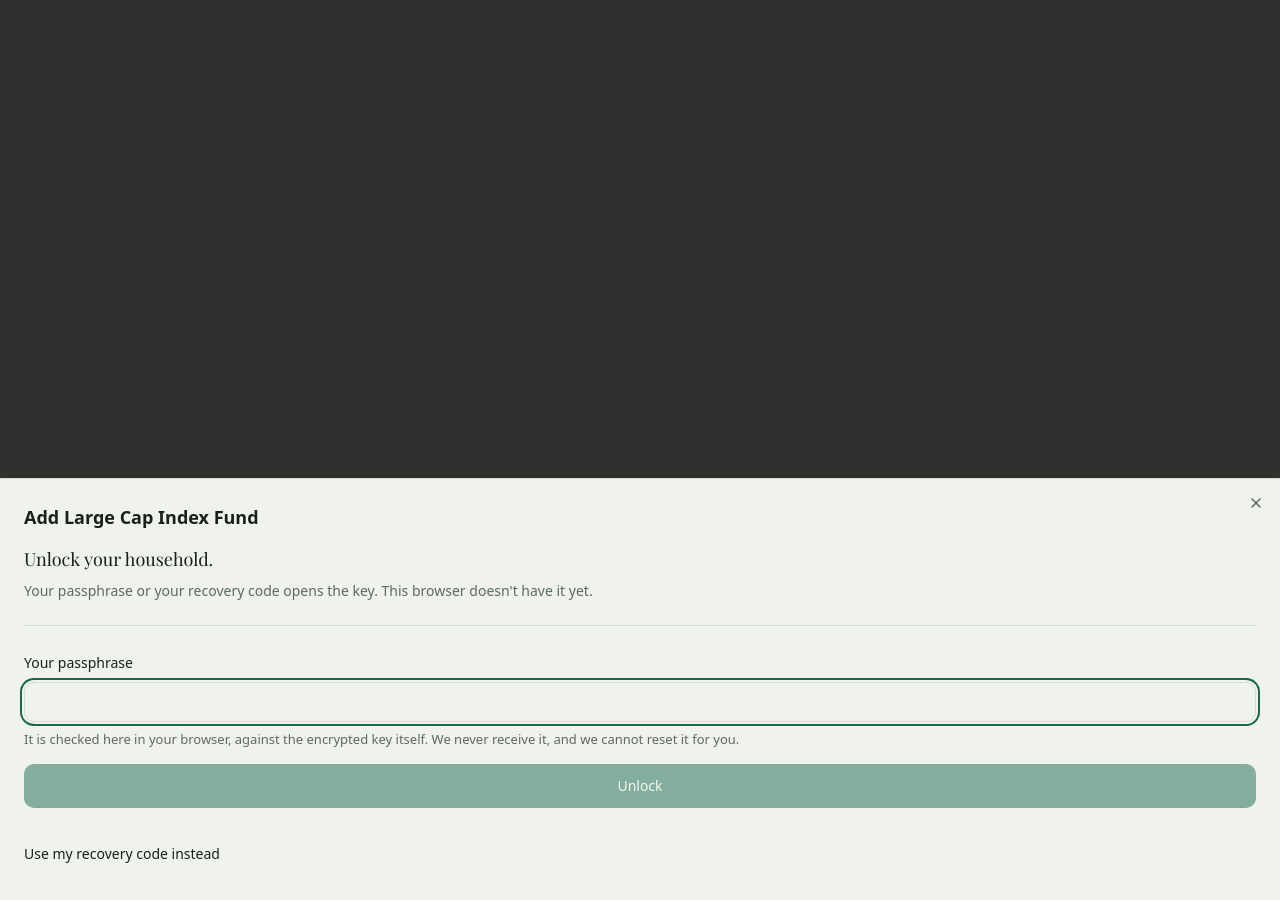
AddHoldingSheet › unlock: a correct passphrase unlocks in place and falls through to the prefilled form
The image size is (1280, 900).
Type "open sesame please" into the password field labelled "Your passphrase" at (640, 702), box [24,682,1256,722]
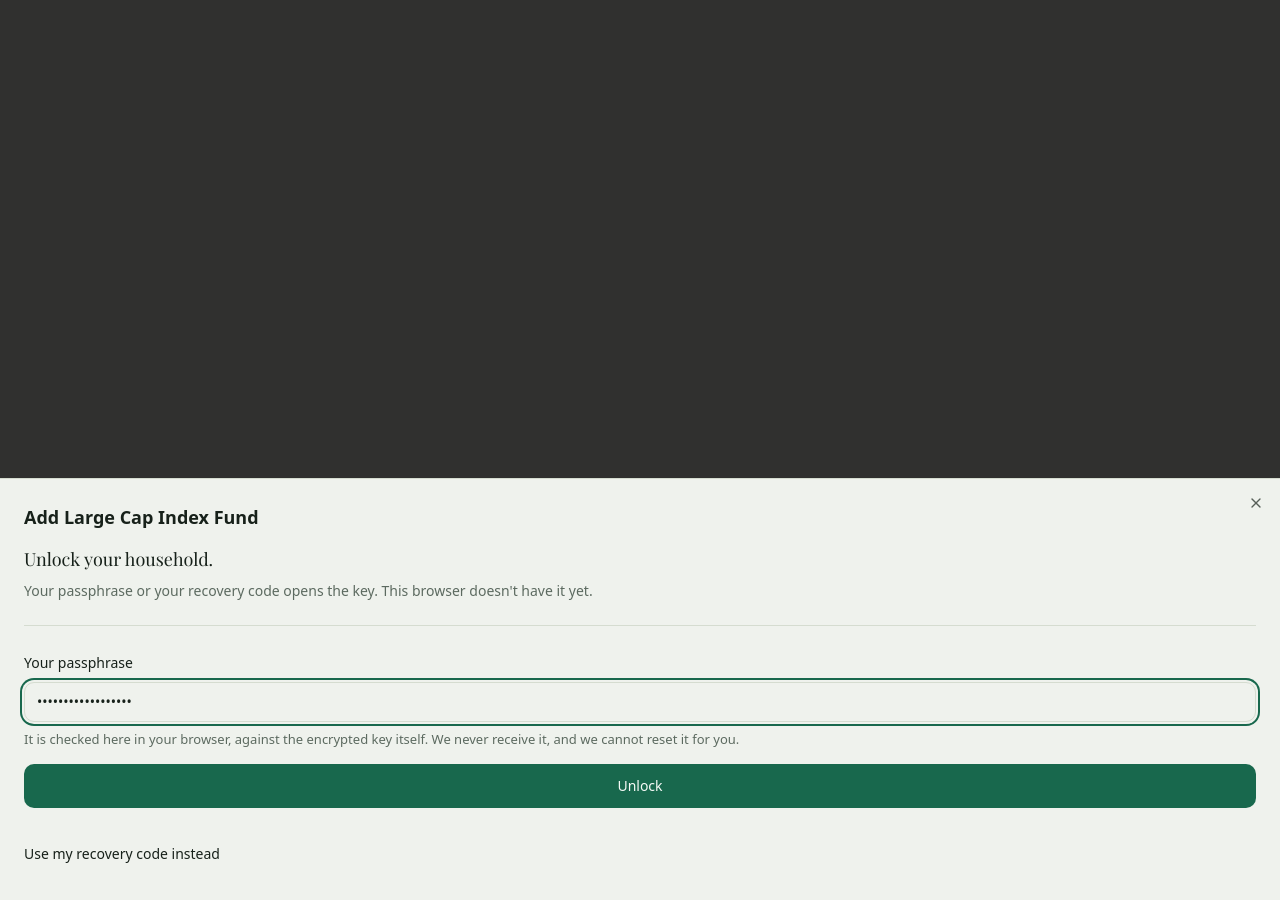
Click the button "Unlock" at (640, 786), box [24,764,1256,808]
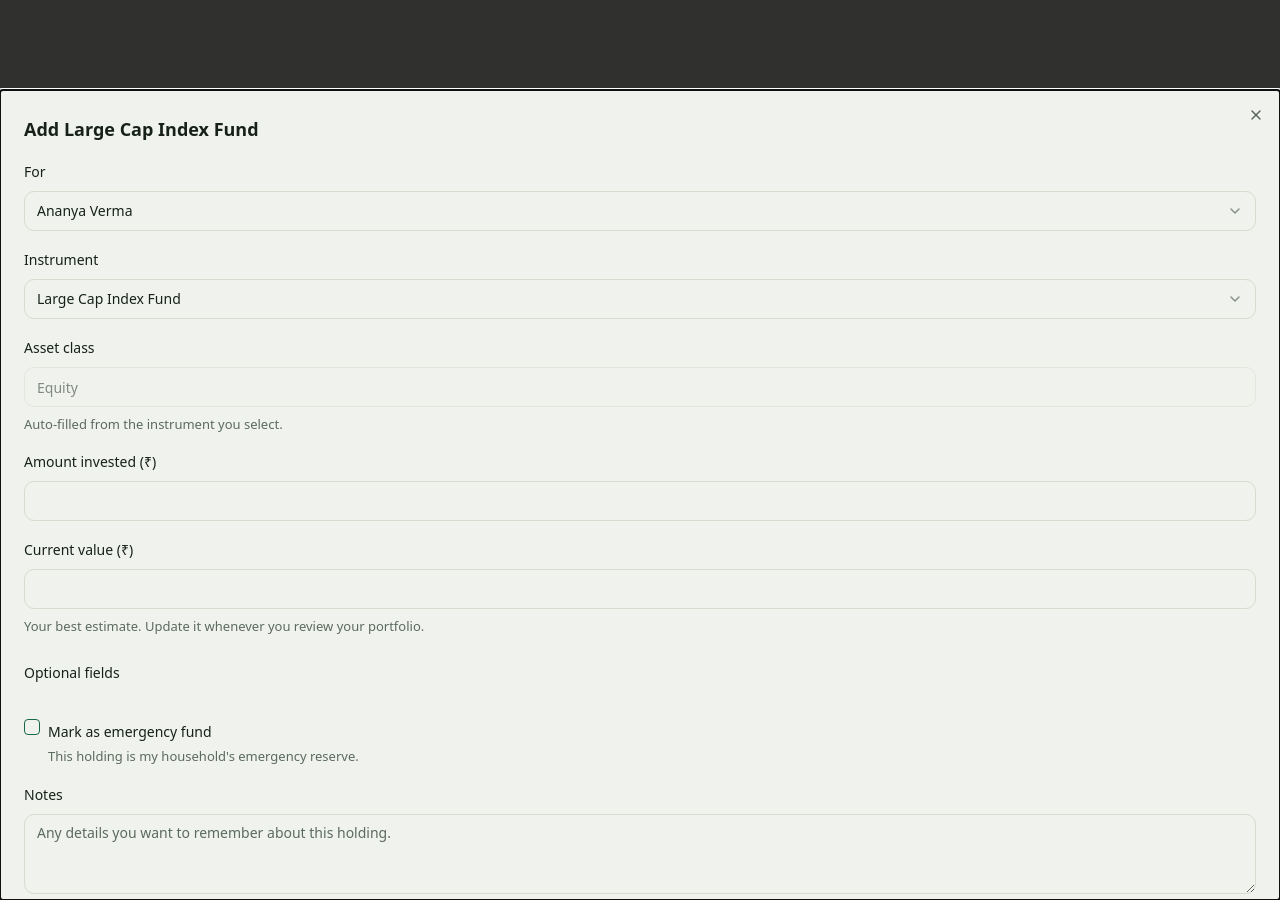
Result: the number field labelled "Amount invested (₹)" is shown at [24,481,1256,521]
Result: the dropdown named "instrument" reads "Large Cap Index Fund" at [24,279,1256,319]
